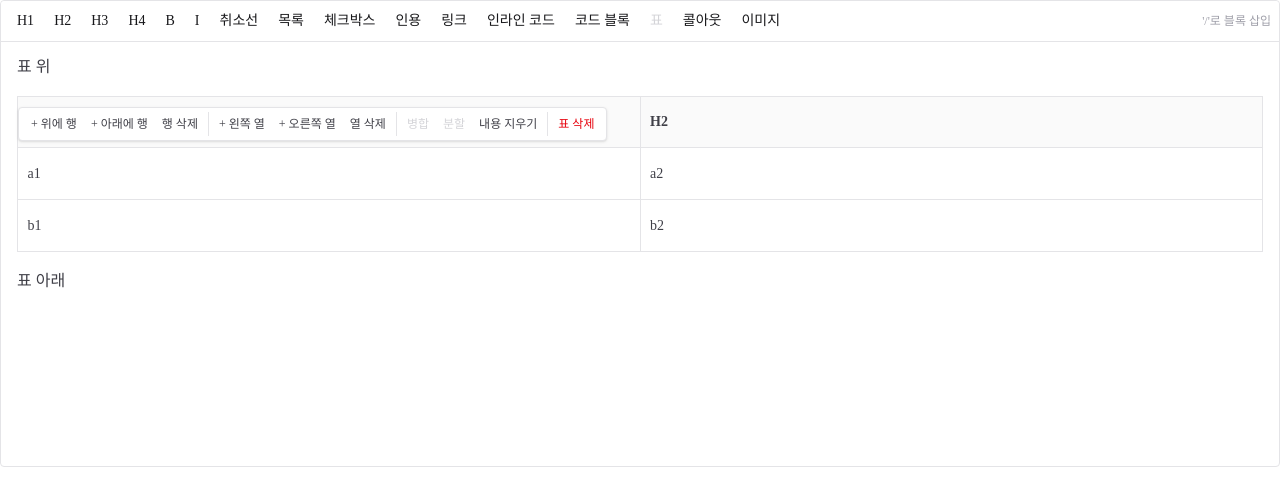
Test: 툴바 버튼이 글을 바꾼다 › '표 삭제'를 누르면 표가 사라지고 툴바도 함께 사라진다
Expected: the field labelled "표 위 H1 H2 a1 a2 b1 b2 표 아래" is shown, [17,58,1262,289]
Expected: the element named "표 편집" is shown, [18,107,607,141]
Click the button "표 삭제" at (576, 124), box [552,112,600,136]
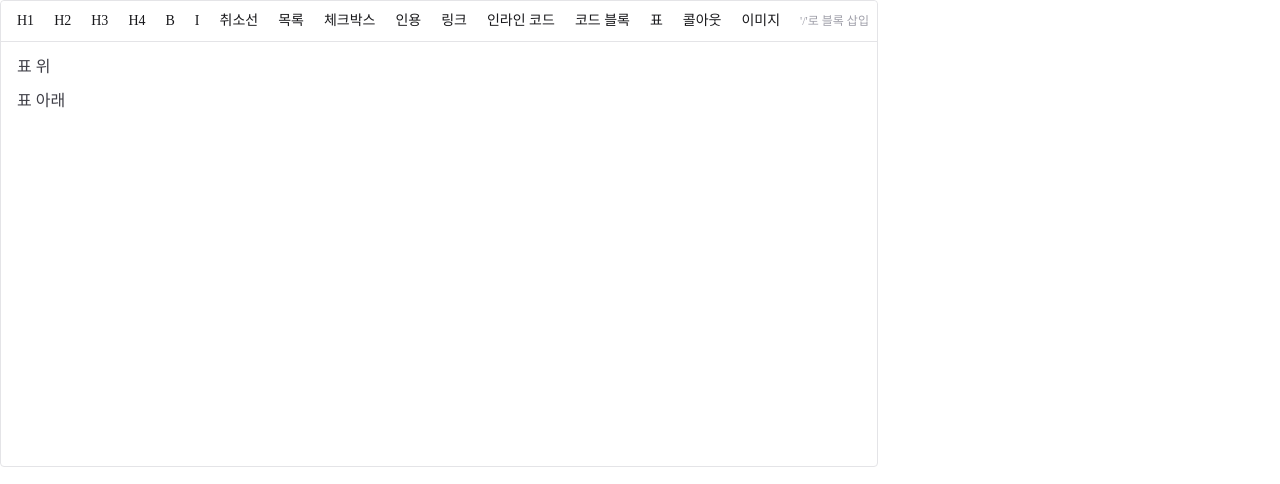
Expected: the field labelled "표 위 표 아래" is shown, [17,58,65,109]
Result: the table is gone
